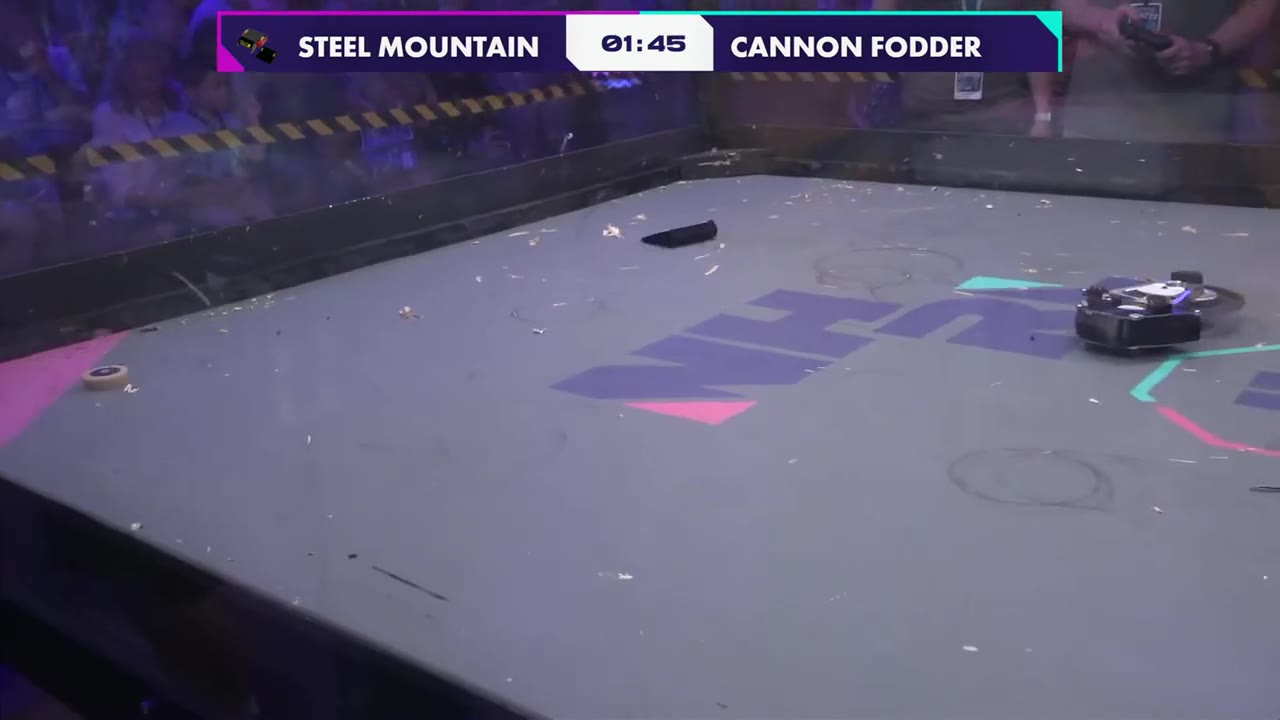combatbot: (1071, 268, 1246, 352)
minibot: (640, 219, 722, 252)
wheel: (79, 363, 133, 394)
